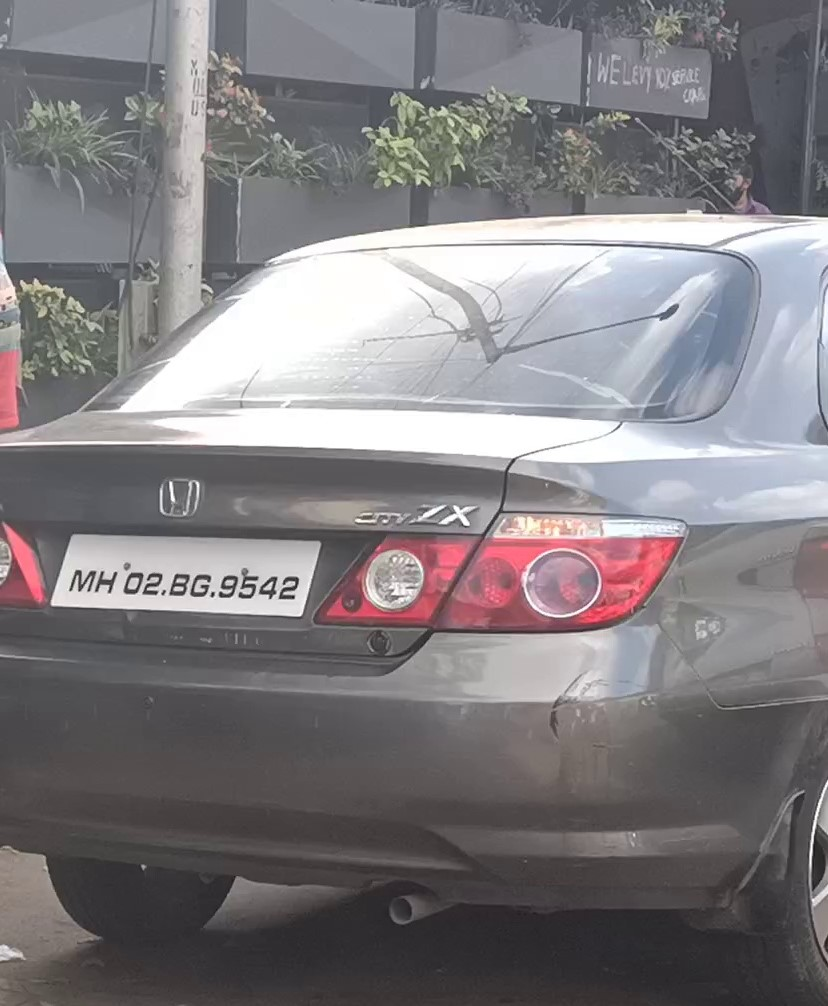MH02BG9542: (48, 534, 321, 614)
